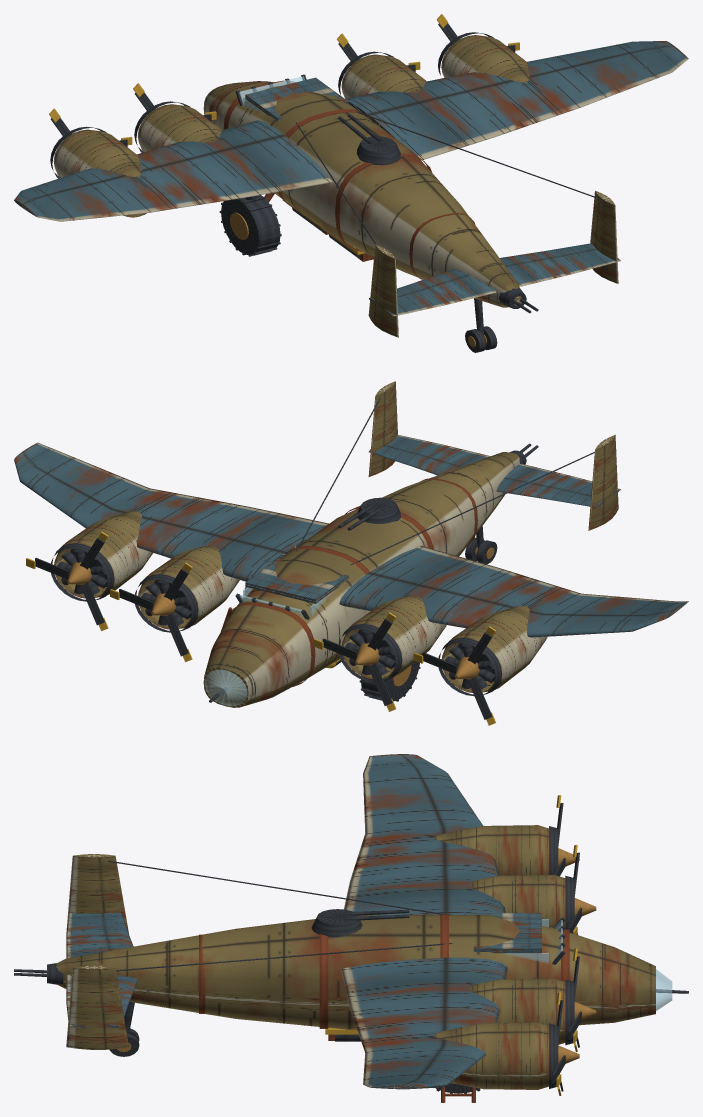
File: scrapyard_bomber.glb
3 renders of one model, top to bottom at view 1: azimuth 30°, elevation 25°; view 2: azimuth 150°, elevation 25°; view 3: azimuth 270°, elevation 25°, orthographic. The views are drawn at different scales.
Parts seen in each view (by area): view 1: airframe, gear_L, gear_tail; view 2: airframe, propeller_R, propeller_R2, propeller_L2, propeller_L, cockpit_glass, gear_L, gear_tail; view 3: airframe, cockpit_glass, propeller_R, propeller_R2, propeller_L, gear_tail.
Part boxes in pixels (<box>): airframe: <box>14,32,688,337</box>; gear_L: <box>219,192,281,256</box>; gear_tail: <box>465,298,497,352</box>; airframe: <box>14,381,688,707</box>; propeller_R: <box>110,562,192,662</box>; propeller_R2: <box>26,531,108,630</box>; propeller_L2: <box>413,626,495,725</box>; propeller_L: <box>314,612,396,711</box>; cockpit_glass: <box>204,587,333,706</box>; gear_L: <box>359,661,420,701</box>; gear_tail: <box>465,526,497,564</box>; airframe: <box>14,754,688,1089</box>; cockpit_glass: <box>504,919,672,1010</box>; propeller_R: <box>568,948,596,1052</box>; propeller_R2: <box>552,992,579,1095</box>; propeller_L: <box>568,845,596,934</box>; gear_tail: <box>109,1002,139,1056</box>.
Size of the model in its own units: 16.87 by 3.51 by 14.52.
Materials: 3 (1 with a texture image).
